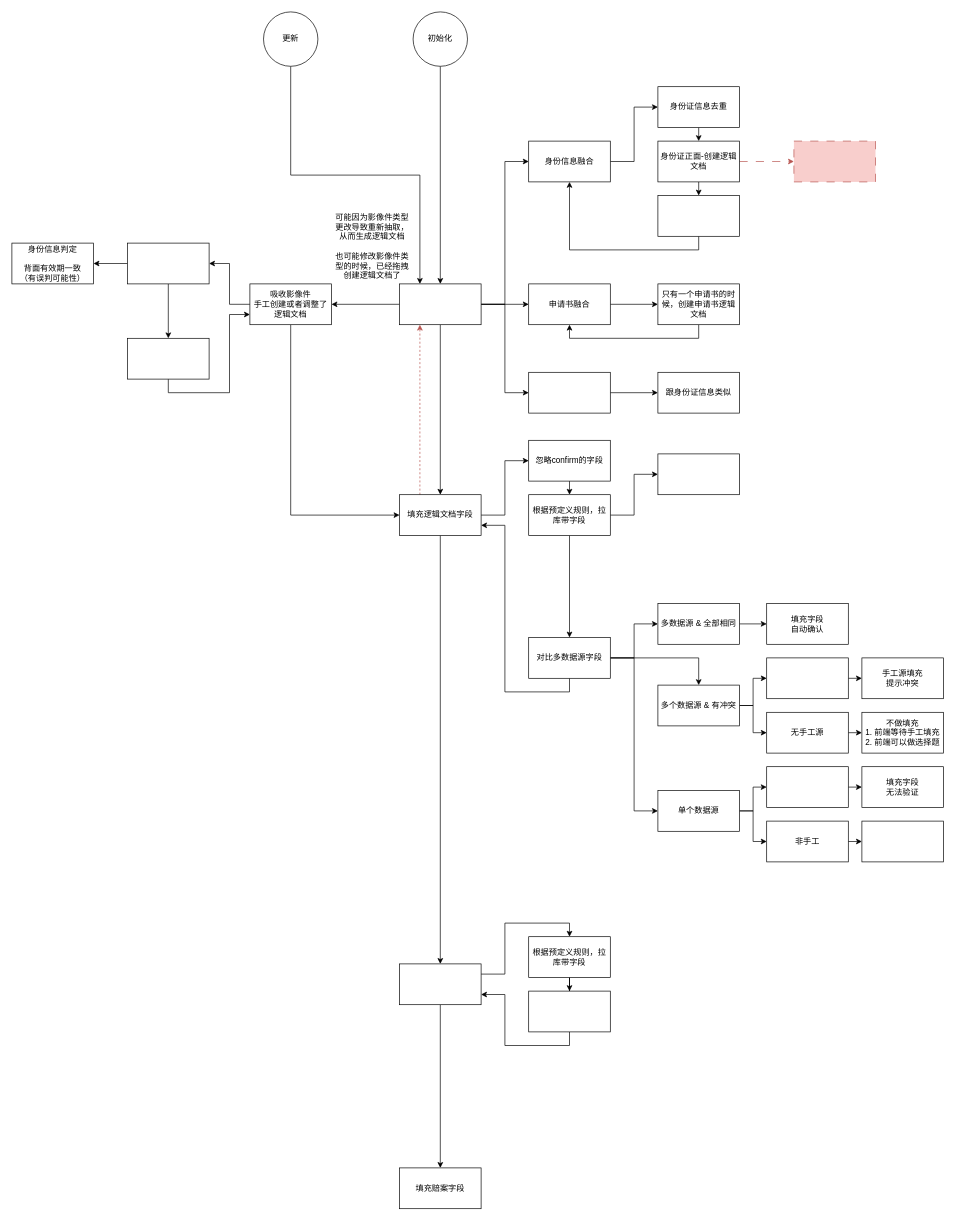
Image size: 955x1221. Some labels were removed from this diagram. Each missing label, with the centre of its shape:
"不填充字段 无法验证" goes at point 902,841.
"判定是否吸收" goes at point 168,263.
"忽略已经拉库的字段" goes at point 698,474.
"手工" goes at point 807,787.
"把fragment加入逻辑文档" goes at point 168,358.
"拉库做剩余字段匹配" goes at point 834,161.
"有手工源" goes at point 807,678.
"根据字段匹配，把逻辑文档进行映射" goes at point 569,1011.
"融合逻辑文档" goes at point 440,304.
"身份证背面-合并到逻辑文档 一个仅在一个背面+一个正面的时候进行" goes at point 698,215.
"逻辑文档融合进赔案" goes at point 440,984.
"银行卡融合" goes at point 569,392.
